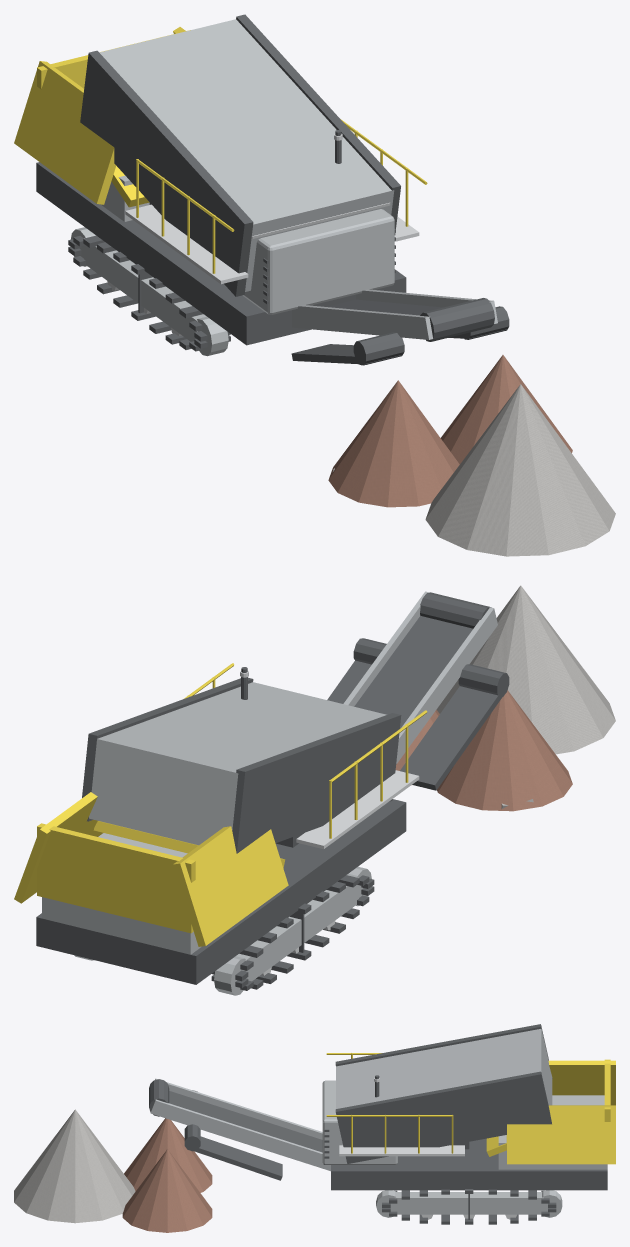
File: demolition-and-site-clearance-demolition-and-site-clea-b69533ae__35696.glb
3 views of the same model, one above another, from view 1: azimuth 30°, elevation 25°; view 2: azimuth 150°, elevation 25°; view 3: azimuth 270°, elevation 25° (orthographic). The views are drawn at different scales.
Visible parts, largest first — view 1: demolition-and-site-clearance-screening-plant; view 2: demolition-and-site-clearance-screening-plant; view 3: demolition-and-site-clearance-screening-plant.
Boxes of the visible parts, x1,y1,x2,y2 form: demolition-and-site-clearance-screening-plant: (14, 14, 615, 556); demolition-and-site-clearance-screening-plant: (14, 585, 615, 995); demolition-and-site-clearance-screening-plant: (14, 1024, 615, 1232).
Size of the model in its own units: 4.1 by 3.88 by 14.36.
7 materials, 2 textured.
